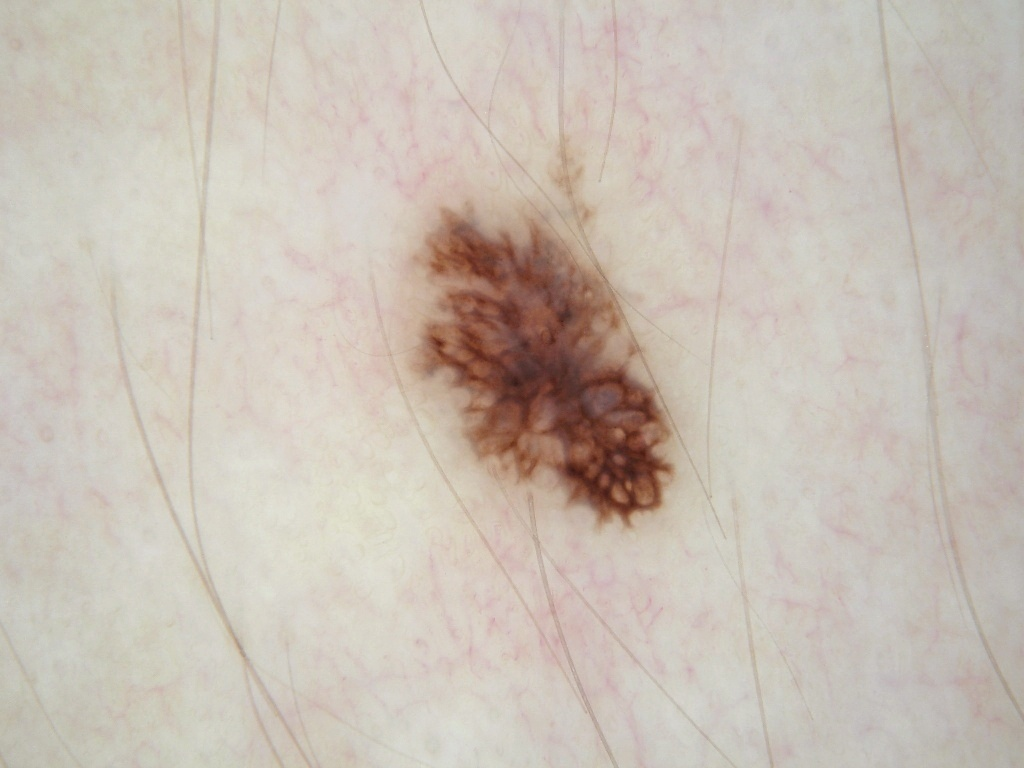Detected Lesion: (400, 205, 682, 539)
